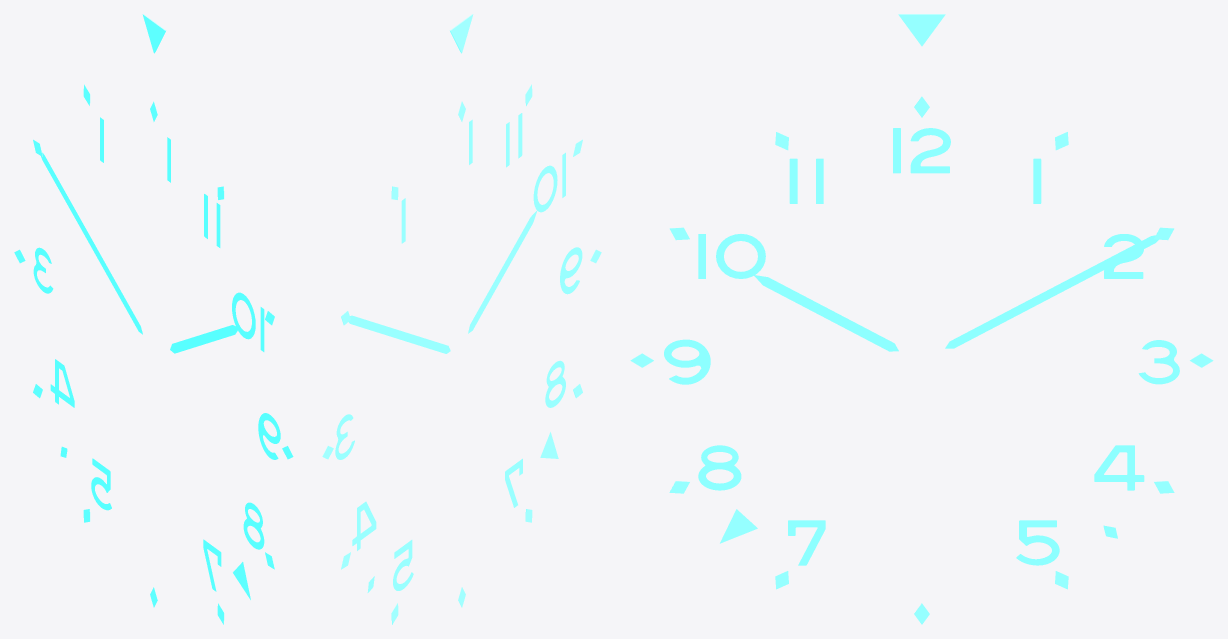
The model's file is clock.glb.
The picture shows the model from 3 angles, left to right: view 1: azimuth 30°, elevation 25°; view 2: azimuth 150°, elevation 25°; view 3: azimuth 270°, elevation 25°; orthographic projection. The views are drawn at different scales.
Parts seen in each view (by area): view 1: :: numbers, :: points, Minute, Heure; view 2: :: numbers, :: points, Minute, Heure; view 3: :: numbers, :: points, Minute, Heure.
Boxes of the visible parts, x1=… form: :: numbers: x1=33, y1=117, x2=280, y2=591; :: points: x1=14, y1=14, x2=293, y2=624; Minute: x1=41, y1=152, x2=142, y2=334; Heure: x1=170, y1=325, x2=237, y2=353; :: numbers: x1=335, y1=113, x2=582, y2=590; :: points: x1=322, y1=14, x2=601, y2=624; Minute: x1=349, y1=315, x2=450, y2=353; Heure: x1=468, y1=210, x2=537, y2=333; :: numbers: x1=664, y1=128, x2=1179, y2=565; :: points: x1=630, y1=14, x2=1213, y2=624; Minute: x1=945, y1=235, x2=1158, y2=348; Heure: x1=754, y1=275, x2=898, y2=351.
Size of the model in its own units: 8.59 by 928 by 803.
